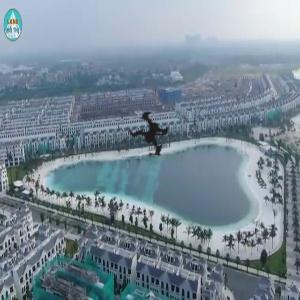drone: (85, 72, 214, 201)
